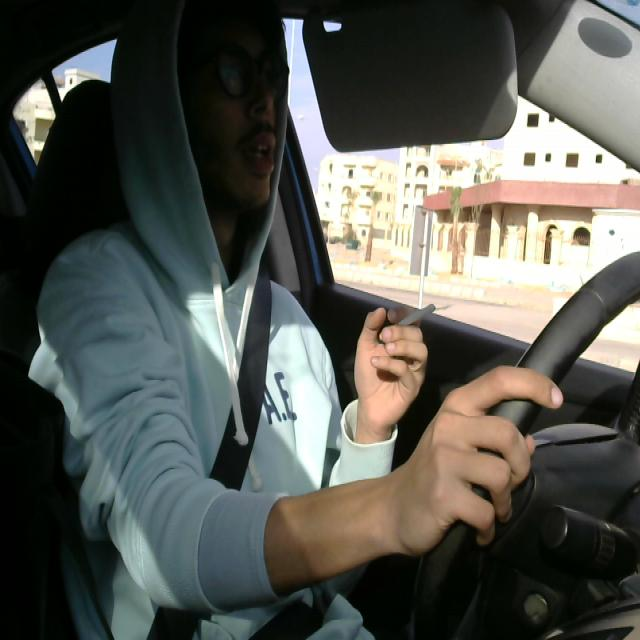smoking: (378, 296, 438, 353)
